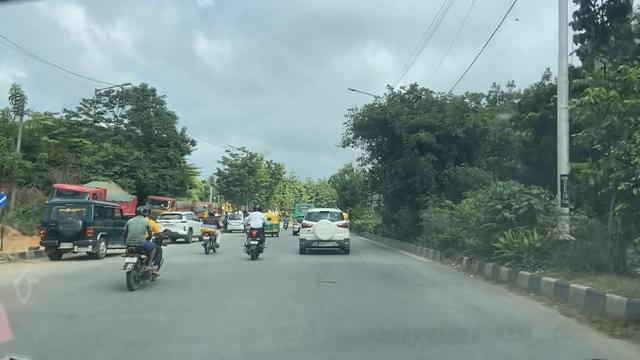HMV: (40, 200, 131, 265)
LMV: (122, 201, 166, 294), (236, 184, 273, 275), (294, 205, 350, 258), (275, 209, 311, 246), (196, 207, 224, 254)
RoadDamages: (304, 269, 353, 305)
